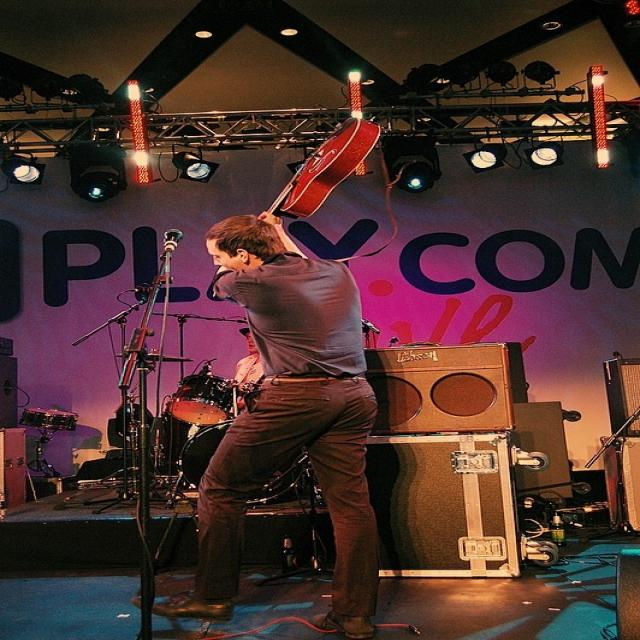drums: (99, 328, 338, 514)
guitar: (256, 110, 386, 228)
